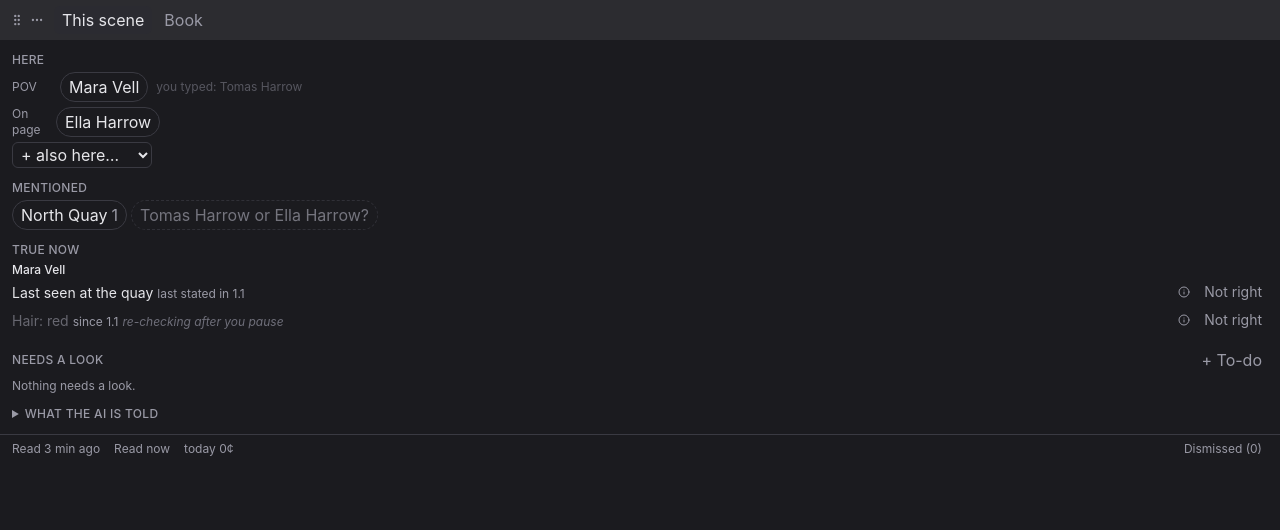
Test: the reading in the panel (F-16.18, F-16.16, F-16.19) › opens ⓘ on a Here chip, and Not right sends the card’s POV or on-page character to Dismissed
The image size is (1280, 530).
Expected: the element with test id "named-chips" is shown, top-left (12, 200), bottom-right (378, 230)
Click the button with test id "here-pov": coordinates (104, 87) top-left (60, 72), bottom-right (148, 102)
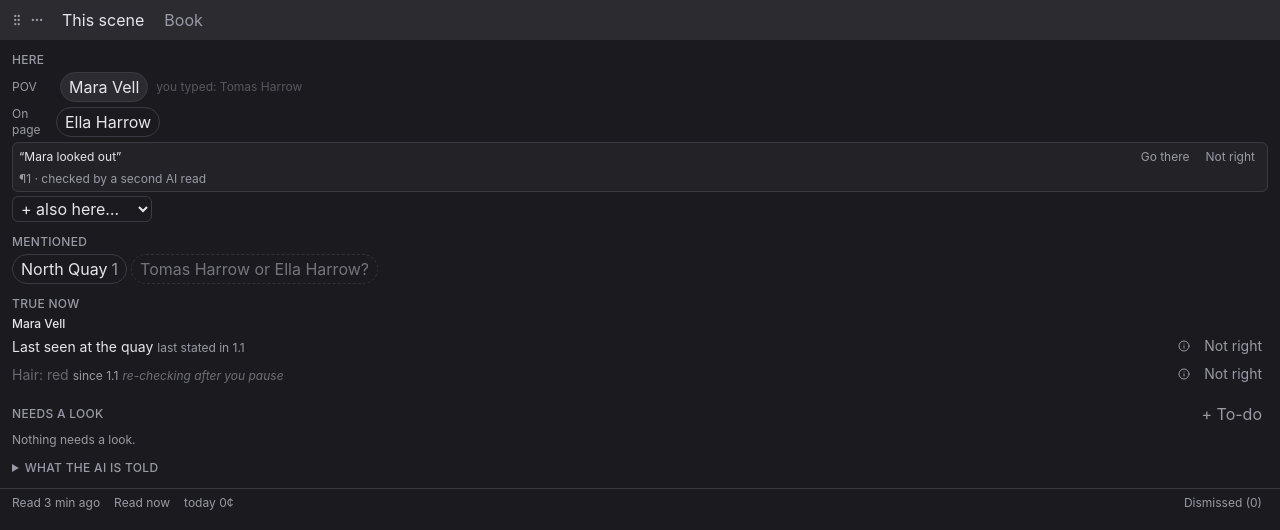
Now the element named "Where this comes from: Mara Vell" shows "Mara looked out", box top-left (24, 149), bottom-right (116, 164)
Now the element named "Where this comes from: Mara Vell" shows "¶1 · checked by a second AI read", box top-left (19, 171), bottom-right (206, 186)
Click the button "Not right" in the row of "Mara looked out": coordinates (1230, 157) top-left (1200, 147), bottom-right (1261, 167)
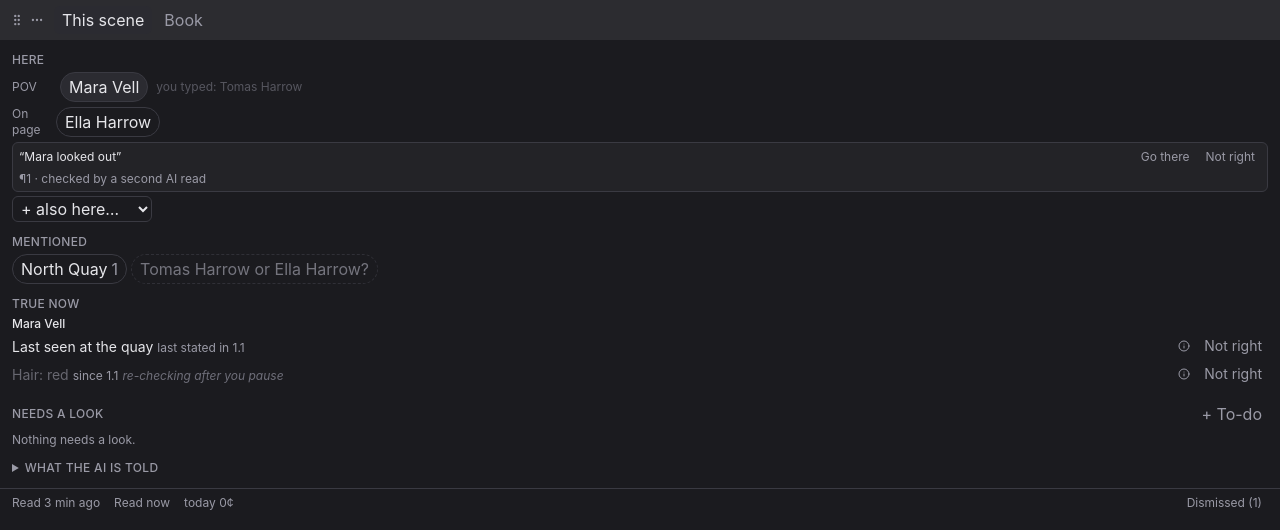
Click the button "Ella Harrow": coordinates (108, 122) top-left (56, 107), bottom-right (160, 137)
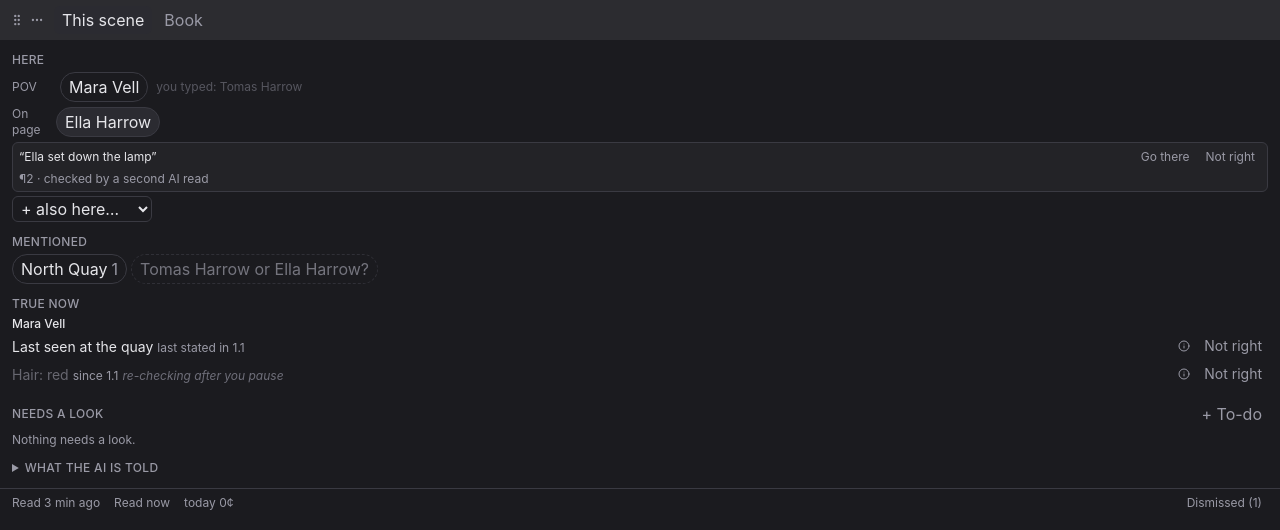
Click the button "Not right" in the row of "Ella set down the lamp": coordinates (1230, 157) top-left (1200, 147), bottom-right (1261, 167)
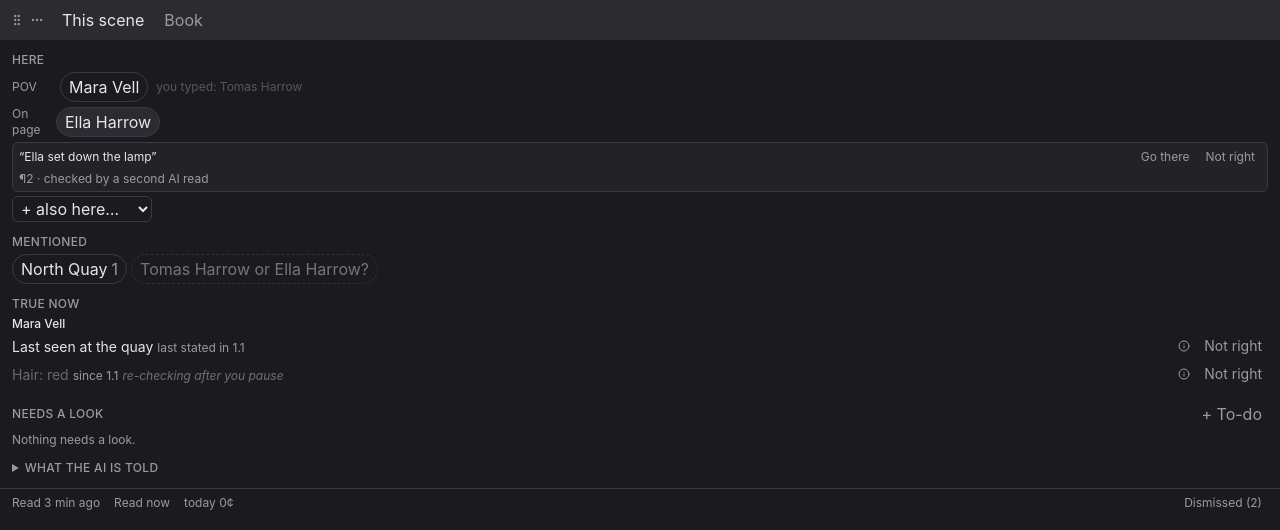
Now the button "Dismissed (2)" is shown, box top-left (1178, 493), bottom-right (1268, 513)
